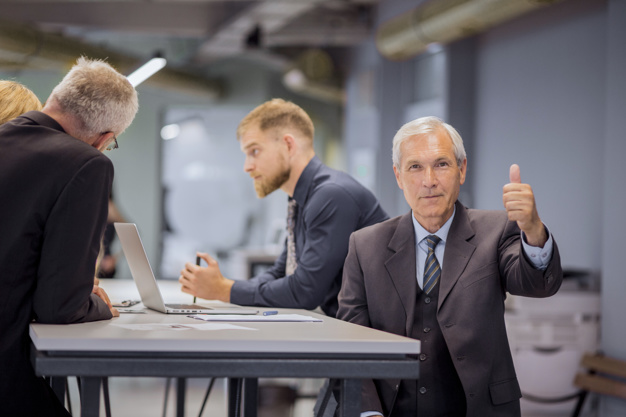thumbsup: (502, 164, 535, 220)
